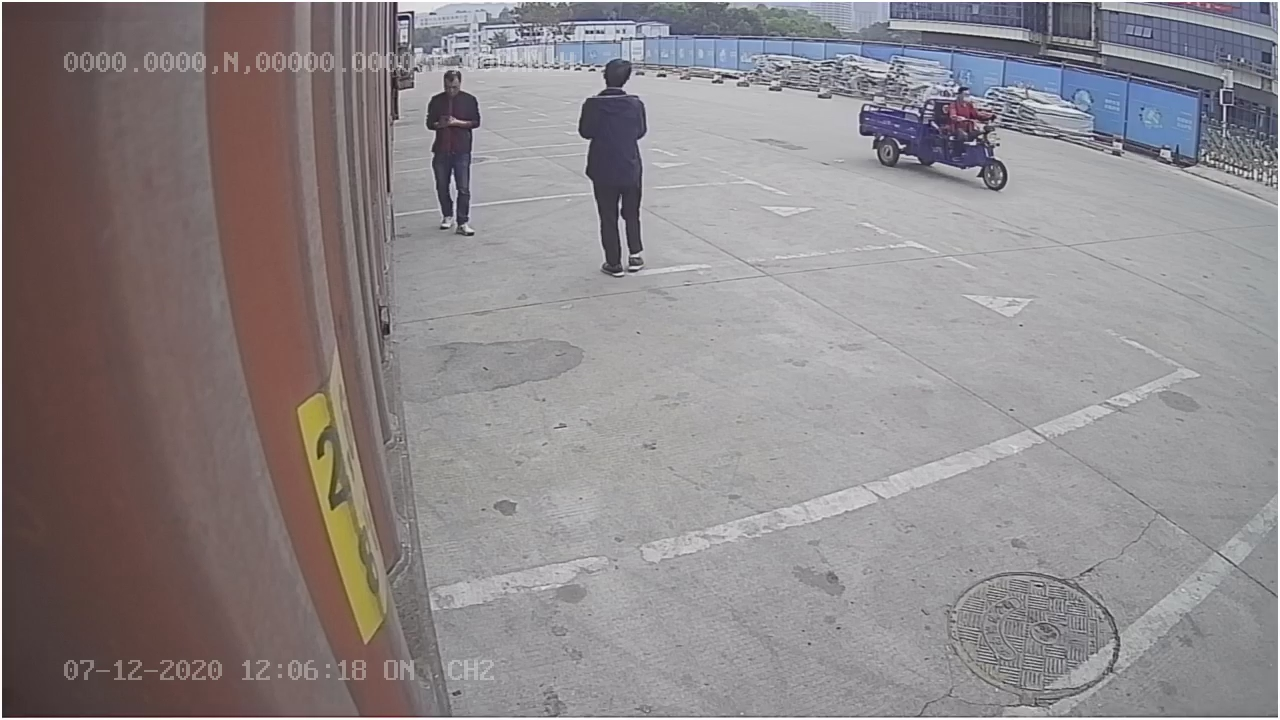person: (575, 52, 652, 278)
